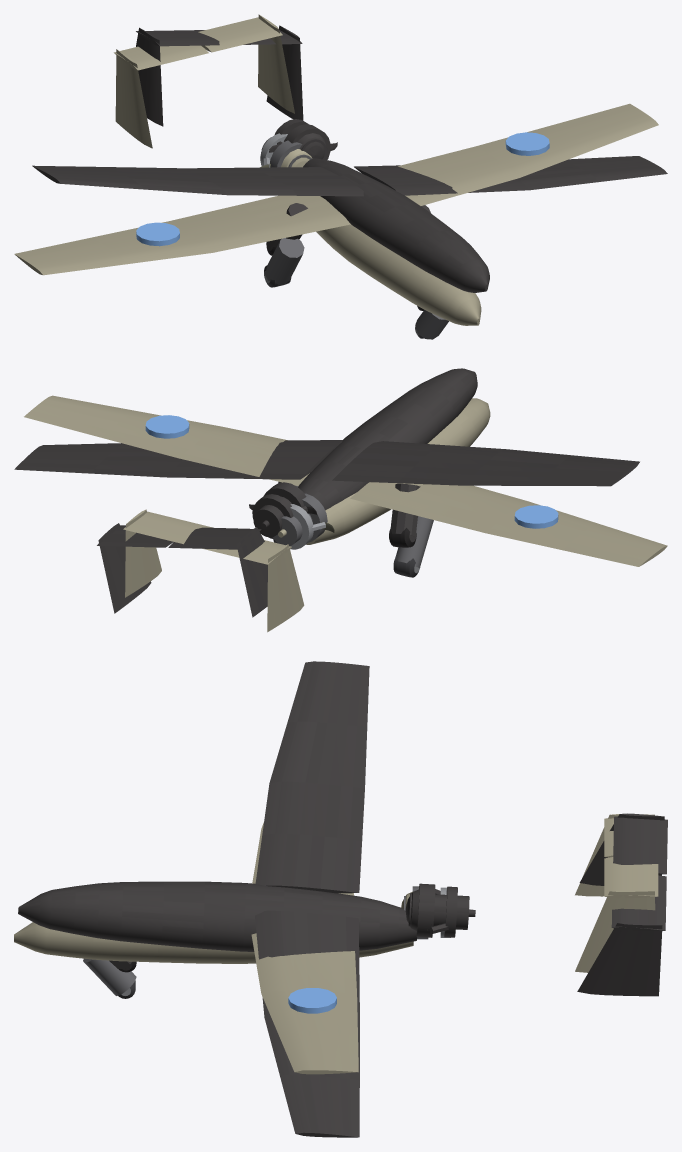
Rendered from drone__kus_ft.glb.
3 views of the same model, one above another, from view 1: azimuth 30°, elevation 25°; view 2: azimuth 150°, elevation 25°; view 3: azimuth 270°, elevation 25° (orthographic). The views are drawn at different scales.
Parts seen in each view (by area): view 1: Fuselage_Mesh, Wreck, Propeller_Mesh; view 2: Wreck, Fuselage_Mesh, Propeller_Mesh; view 3: Wreck, Fuselage_Mesh.
Boxes of the visible parts, x1,y1,x2,y2 form: Fuselage_Mesh: [14, 14, 658, 339]; Wreck: [32, 25, 667, 310]; Propeller_Mesh: [260, 133, 312, 167]; Wreck: [14, 368, 639, 617]; Fuselage_Mesh: [24, 395, 667, 632]; Propeller_Mesh: [272, 493, 334, 549]; Wreck: [18, 661, 667, 1137]; Fuselage_Mesh: [14, 814, 658, 1074].
Size of what is drawn, in the model's own units: 4.57 by 1.14 by 3.76.
